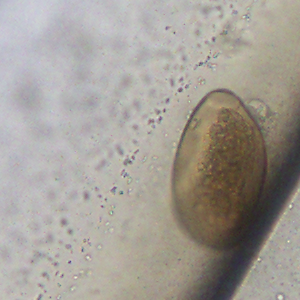Fasciola_hepatica_egg: (169, 87, 270, 252)
